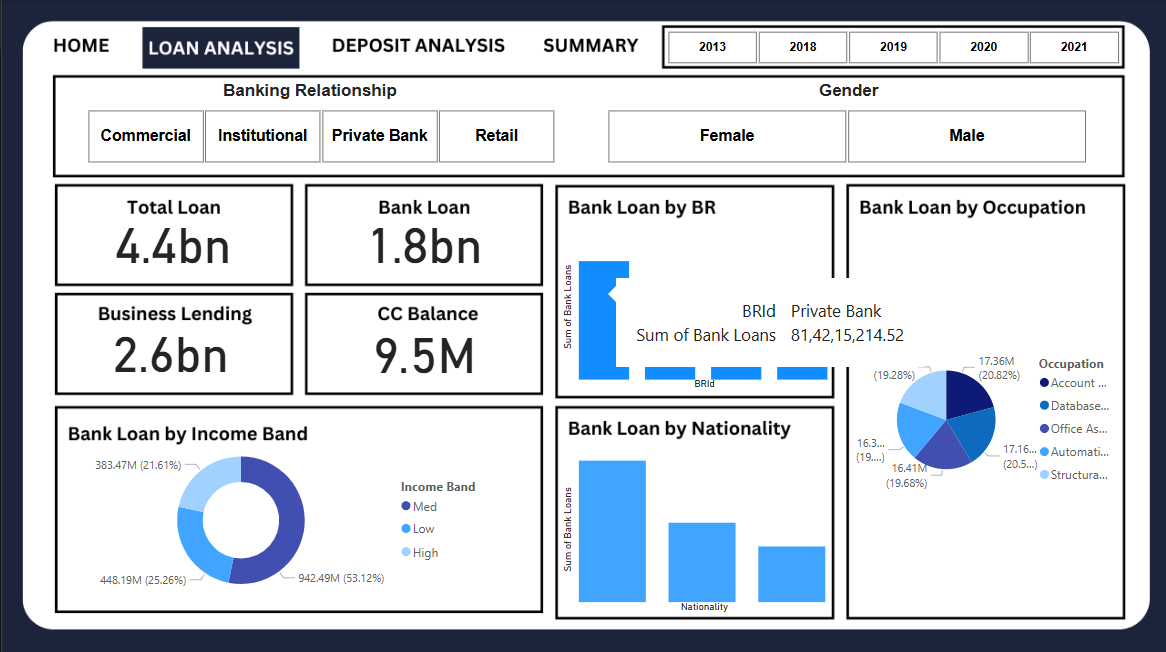

The page's visual inventory and layout, read from the dashboard file:
{"tool":"powerbi","page":{"name":"Loan Analysis","canvas":[1280,720],"ordinal":1},"visuals":[{"type":"slicer","fields":{"Values":["Banking.Year"]},"box":[705.6,28.5,544.5,48.5],"z":0},{"type":"actionButton","box":[32.8,20,99.8,65.6],"z":1000},{"type":"card","fields":{"Values":["Banking.Total Loan"]},"box":[85.5,216.7,205.3,95.5],"z":2000},{"type":"card","fields":{"Values":["Sum(Banking.Bank Loans)"]},"box":[360.6,216.7,205.3,95.5],"z":3000},{"type":"card","fields":{"Values":["Sum(Banking.Business Lending)"]},"box":[82.7,336.4,205.3,95.5],"z":4000},{"type":"card","fields":{"Values":["Sum(Banking.Credit Card Balance)"]},"box":[360.6,337.8,205.3,95.5],"z":5000},{"type":"donutChart","fields":{"Category":["Banking.Income Band"],"Y":["Sum(Banking.Bank Loans)"]},"box":[82.7,476.1,460.4,192.4],"z":6000},{"type":"clusteredColumnChart","fields":{"Category":["Banking.BRId"],"Y":["Sum(Banking.Bank Loans)"]},"box":[610.1,243.7,303.6,189.6],"z":7000},{"type":"clusteredColumnChart","fields":{"Y":["Sum(Banking.Bank Loans)"],"Category":["Banking.Nationality"]},"box":[610.1,488.9,303.6,189.6],"z":8000},{"type":"pieChart","fields":{"Category":["Banking.Occupation"],"Y":["Sum(Banking.Bank Loans)"]},"box":[930.8,245.2,300.8,433.3],"z":9000},{"type":"slicer","fields":{"Values":["Banking.BRId"]},"box":[68.4,115.5,561.6,71.3],"z":10000},{"type":"textbox","box":[233.8,85.5,209.5,39.9],"z":11000},{"type":"textbox","box":[825.3,85.5,209.5,39.9],"z":12000},{"type":"slicer","fields":{"Values":["Banking.GenderId"]},"box":[640,115.5,574.4,71.3],"z":13000},{"type":"actionButton","box":[339.2,32.8,226.6,44.2],"z":14000},{"type":"actionButton","box":[565.9,28.5,139.7,44.2],"z":15000}]}

Visuals, with their boxes in screenshot pixels (x1, y1, x2, y2), scaled from the page's 1280x720 canvas onto the 1166x652 screenshot:
slicer - Banking.Year: [x1=643, y1=26, x2=1139, y2=70]
actionButton: [x1=30, y1=18, x2=121, y2=78]
card - Banking.Total Loan: [x1=78, y1=196, x2=265, y2=283]
card - Sum(Banking.Bank Loans): [x1=328, y1=196, x2=515, y2=283]
card - Sum(Banking.Business Lending): [x1=75, y1=305, x2=262, y2=391]
card - Sum(Banking.Credit Card Balance): [x1=328, y1=306, x2=515, y2=392]
donutChart - Banking.Income Band x Sum(Banking.Bank Loans): [x1=75, y1=431, x2=495, y2=605]
clusteredColumnChart - Banking.BRId x Sum(Banking.Bank Loans): [x1=556, y1=221, x2=832, y2=392]
clusteredColumnChart - Sum(Banking.Bank Loans) x Banking.Nationality: [x1=556, y1=443, x2=832, y2=614]
pieChart - Banking.Occupation x Sum(Banking.Bank Loans): [x1=848, y1=222, x2=1122, y2=614]
slicer - Banking.BRId: [x1=62, y1=105, x2=574, y2=169]
textbox: [x1=213, y1=77, x2=404, y2=114]
textbox: [x1=752, y1=77, x2=943, y2=114]
slicer - Banking.GenderId: [x1=583, y1=105, x2=1106, y2=169]
actionButton: [x1=309, y1=30, x2=515, y2=70]
actionButton: [x1=515, y1=26, x2=643, y2=66]
